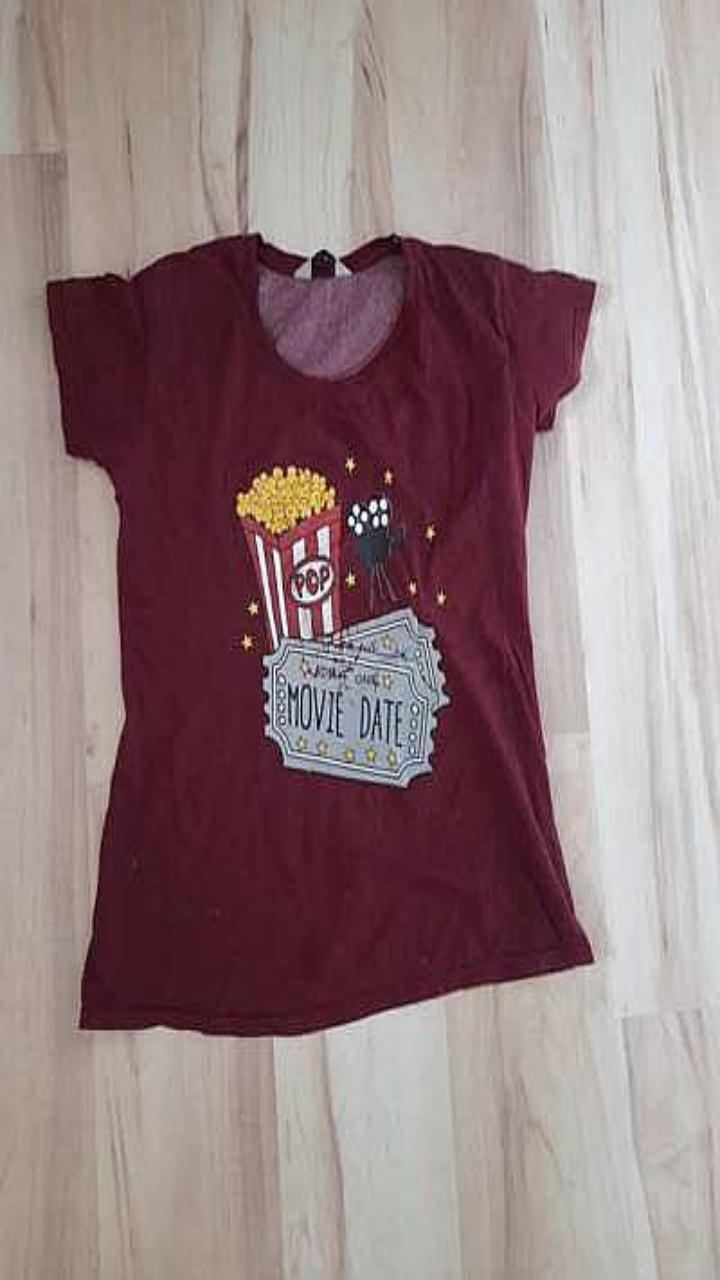T-Shirt: (47, 232, 595, 1034)
